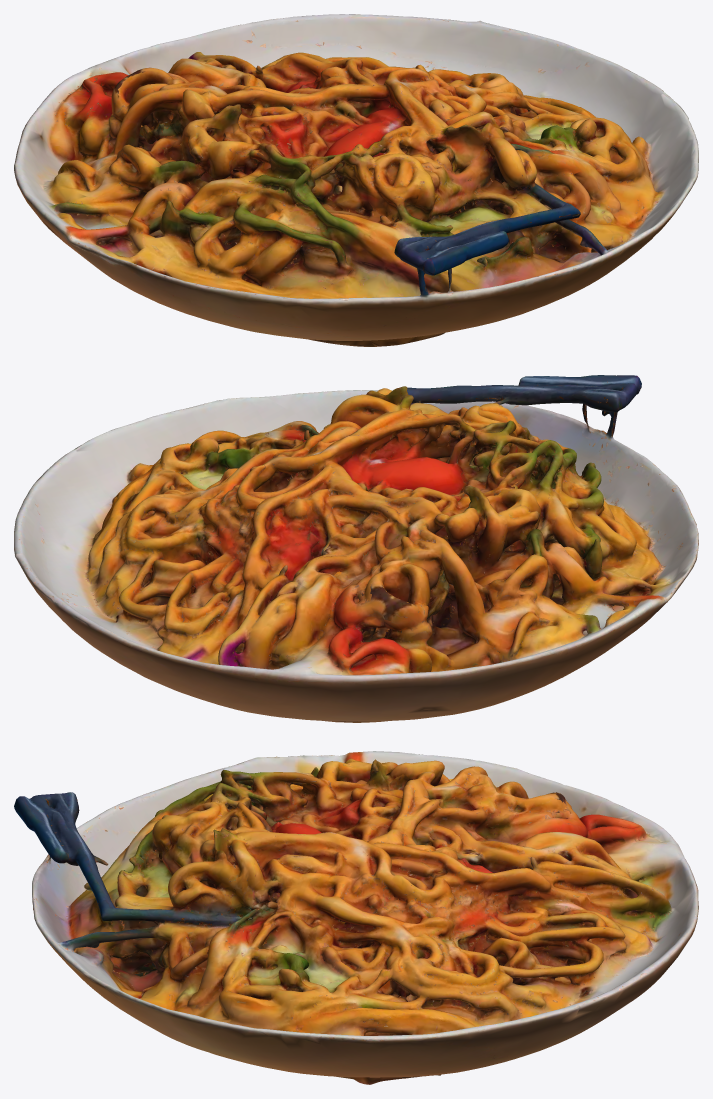
The model's file is chinese.glb.
3 renders of one model, top to bottom at view 1: azimuth 30°, elevation 25°; view 2: azimuth 150°, elevation 25°; view 3: azimuth 270°, elevation 25°, orthographic. The views are drawn at different scales.
Size of the model in its own units: 1.97 by 0.7107 by 2.
Materials: 1 (1 with a texture image).
